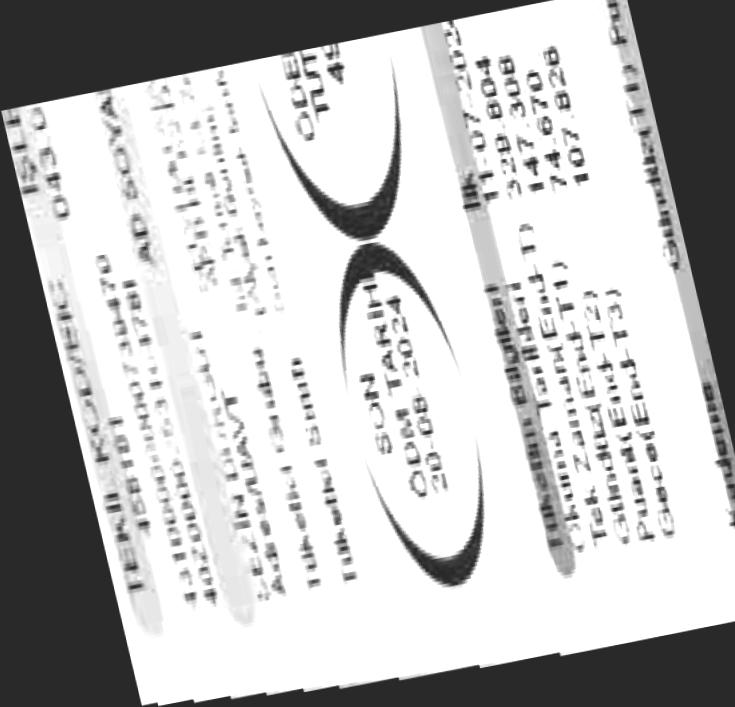electricity-bill: (1, 0, 735, 706)
